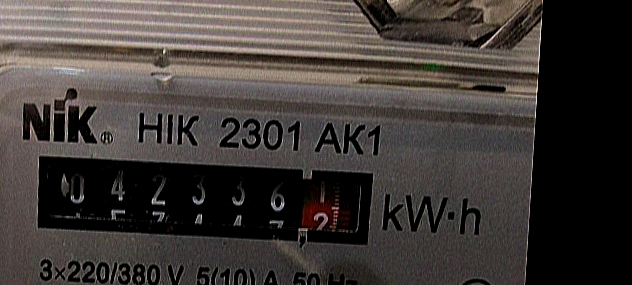0: (68, 169, 90, 205)
1: (316, 176, 331, 205)
2: (149, 170, 171, 207), (312, 209, 332, 231)
3: (190, 169, 211, 208), (228, 171, 250, 208)
4: (109, 165, 130, 203)
6: (267, 176, 291, 213)
screen: (28, 142, 385, 257)
